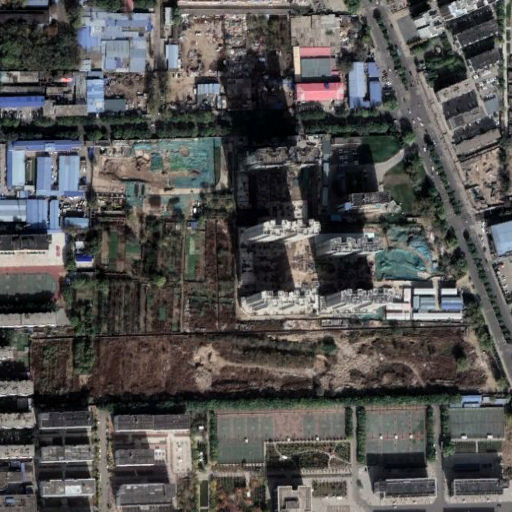cw: (101, 142, 221, 190), (374, 226, 439, 282)
